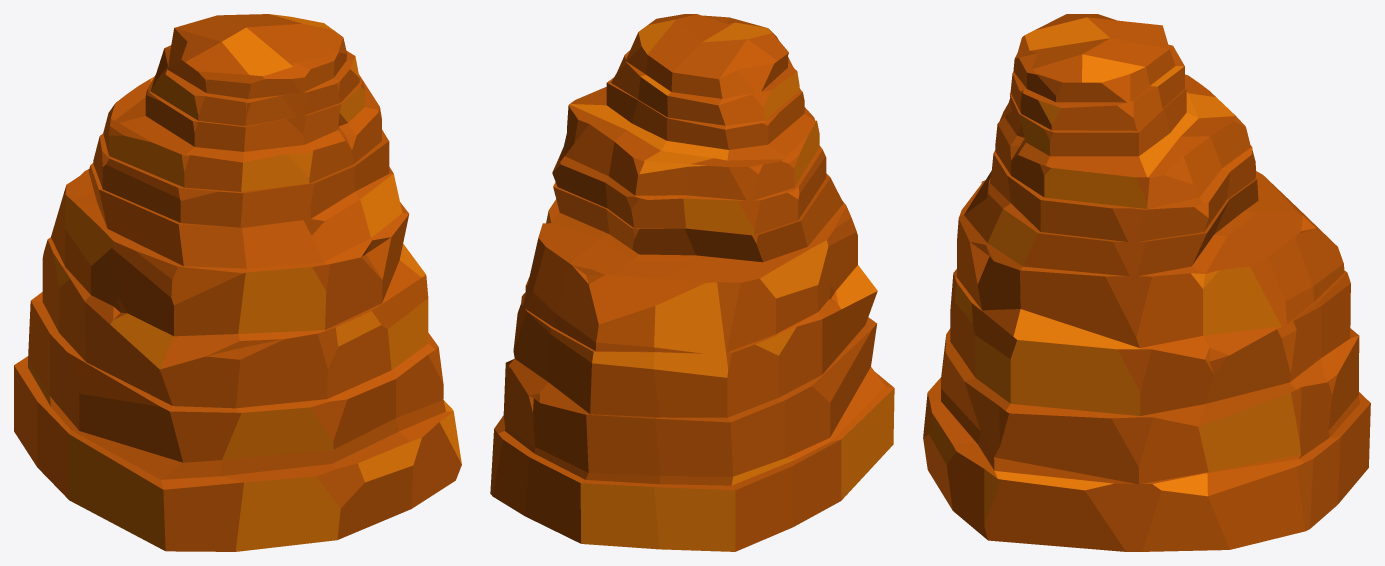
File: stone3.fbx
3 renders of one model, left to right at view 1: azimuth 30°, elevation 25°; view 2: azimuth 150°, elevation 25°; view 3: azimuth 270°, elevation 25°, orthographic. The views are drawn at different scales.
Parts seen in each view (by area): view 1: Cube.021; view 2: Cube.021; view 3: Cube.021.
Part boxes in pixels (bbox=[...]): Cube.021: bbox=[14, 14, 461, 551]; Cube.021: bbox=[490, 14, 894, 551]; Cube.021: bbox=[923, 14, 1370, 551].
Size of the model in its own units: 355 by 455 by 422.
